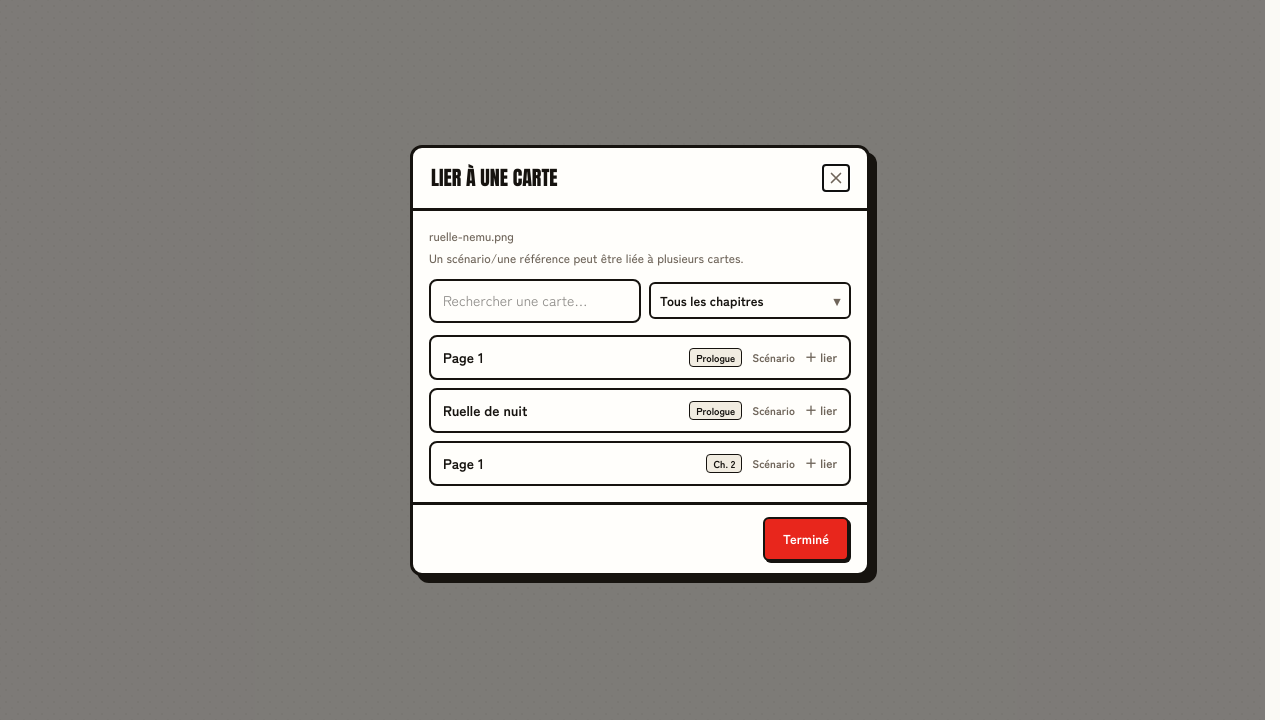
it: LinkCardModal › filters (R7-1) › filters rows by title once the search debounce elapses
The image size is (1280, 720).
Expected: the number of buttons "Page 1 Prologue Scénario ＋ lier" is 2, [429,334,851,380]; [429,440,851,486]
Type "ruelle" into the search field labelled "Rechercher une carte".
click(535, 300); type("ruelle")  # box [429,278,641,322]
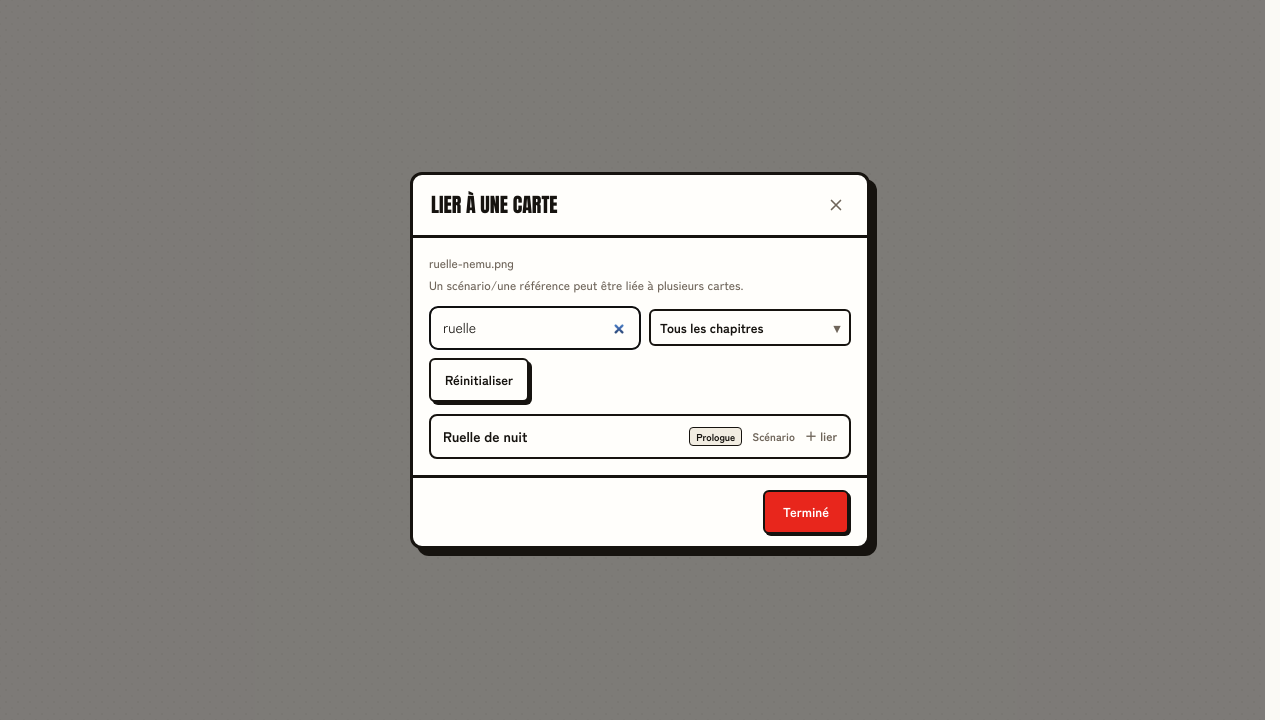
Expected: the button "Ruelle de nuit Prologue Scénario ＋ lier" is shown, [429,414,851,458]
Result: the button "Page 1" is gone
